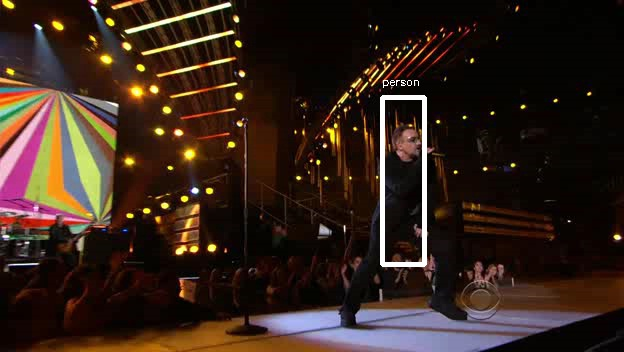person: (375, 126, 448, 256), (372, 126, 445, 256), (378, 126, 451, 256), (375, 123, 448, 253), (375, 129, 448, 259)
target_negative: (66, 277, 183, 326), (472, 277, 542, 313), (136, 288, 357, 293), (49, 274, 98, 281), (242, 111, 246, 172), (97, 342, 119, 344)
